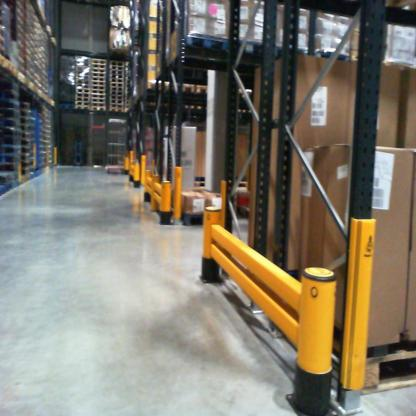pallet: (309, 339, 414, 404), (273, 40, 317, 76), (168, 29, 225, 56), (227, 33, 273, 65), (309, 49, 345, 72), (177, 177, 217, 194), (217, 175, 254, 193), (193, 82, 225, 99), (173, 80, 194, 100)
